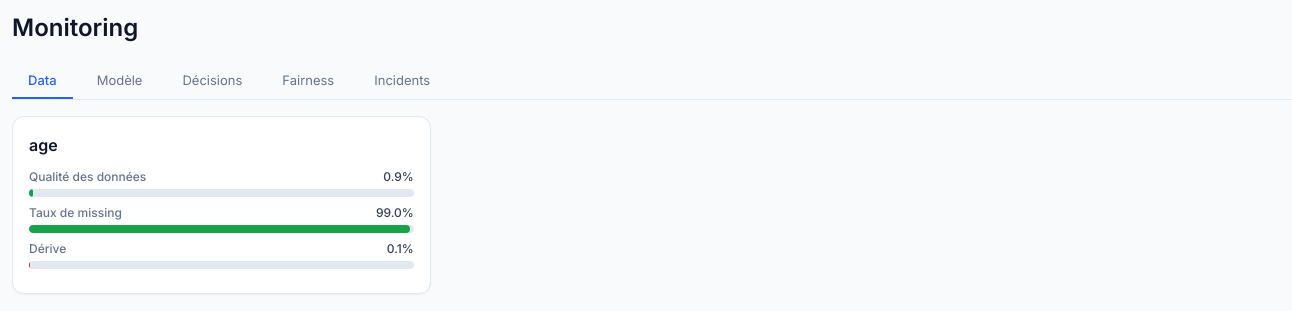
Scenario: MonitoringPage › shows decision stats on the decisions tab
The image size is (1292, 311).
Click the tab "Décisions": coordinates (212, 80) [166,60,258,99]
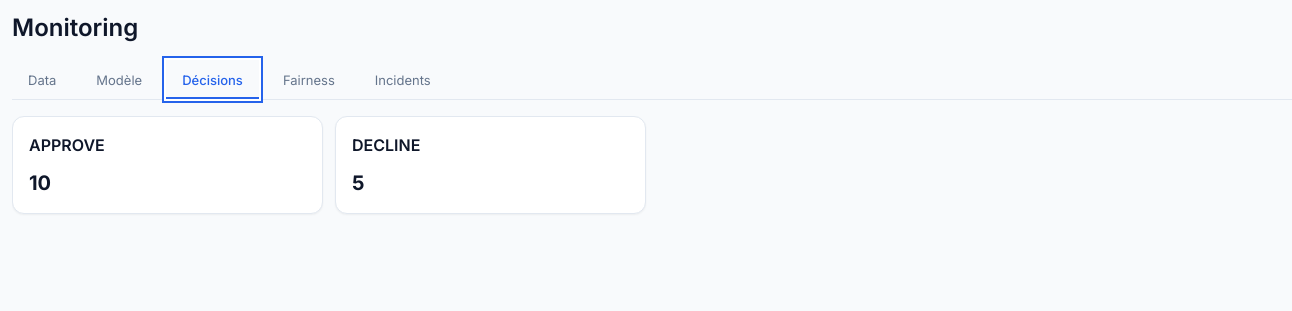
Now the heading "APPROVE" is shown, box [29,133,105,157]
Now the heading "DECLINE" is shown, box [352,133,420,157]
